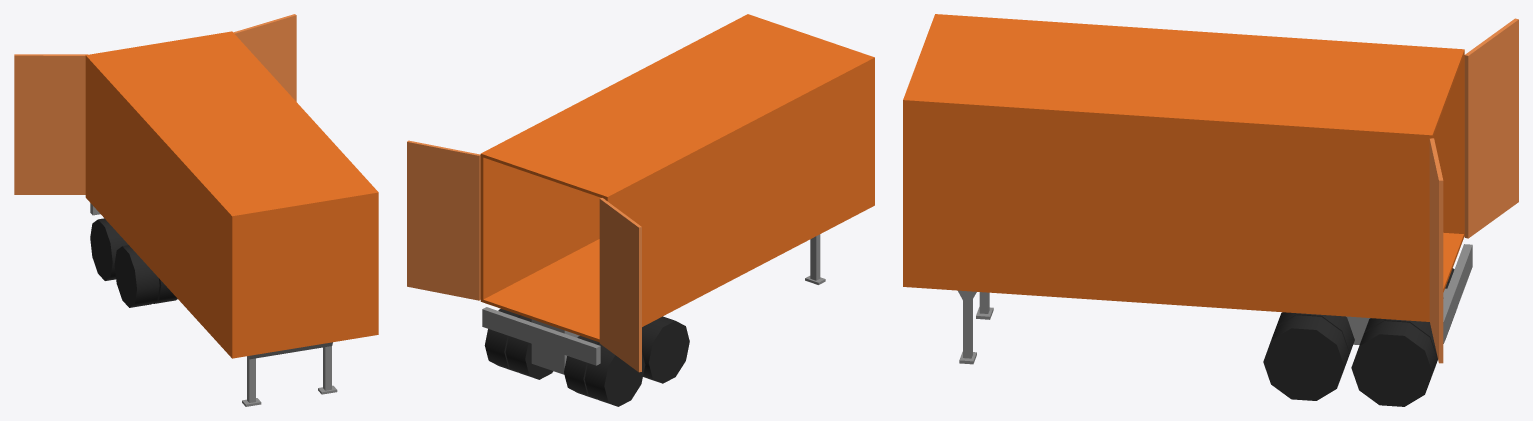
Rendered from LasteKontainer.FBX.
The picture shows the model from 3 angles, left to right: view 1: azimuth 30°, elevation 25°; view 2: azimuth 150°, elevation 25°; view 3: azimuth 270°, elevation 25°; orthographic projection. The views are drawn at different scales.
Parts seen in each view (by area): view 1: LasteKontainer, VenstreDør, HøyreDør; view 2: LasteKontainer, HøyreDør, VenstreDør; view 3: LasteKontainer, VenstreDør, HøyreDør.
Boxes of the visible parts, left/top/right/bottom form: LasteKontainer: left=85, top=31, right=378, bottom=406; VenstreDør: left=14, top=54, right=87, bottom=194; HøyreDør: left=233, top=14, right=296, bottom=101; LasteKontainer: left=480, top=14, right=874, bottom=406; HøyreDør: left=407, top=140, right=480, bottom=300; VenstreDør: left=599, top=198, right=641, bottom=372; LasteKontainer: left=903, top=14, right=1472, bottom=406; VenstreDør: left=1464, top=18, right=1518, bottom=238; HøyreDør: left=1429, top=138, right=1443, bottom=363.
Size of the model in its own units: 740 by 581 by 1173.
